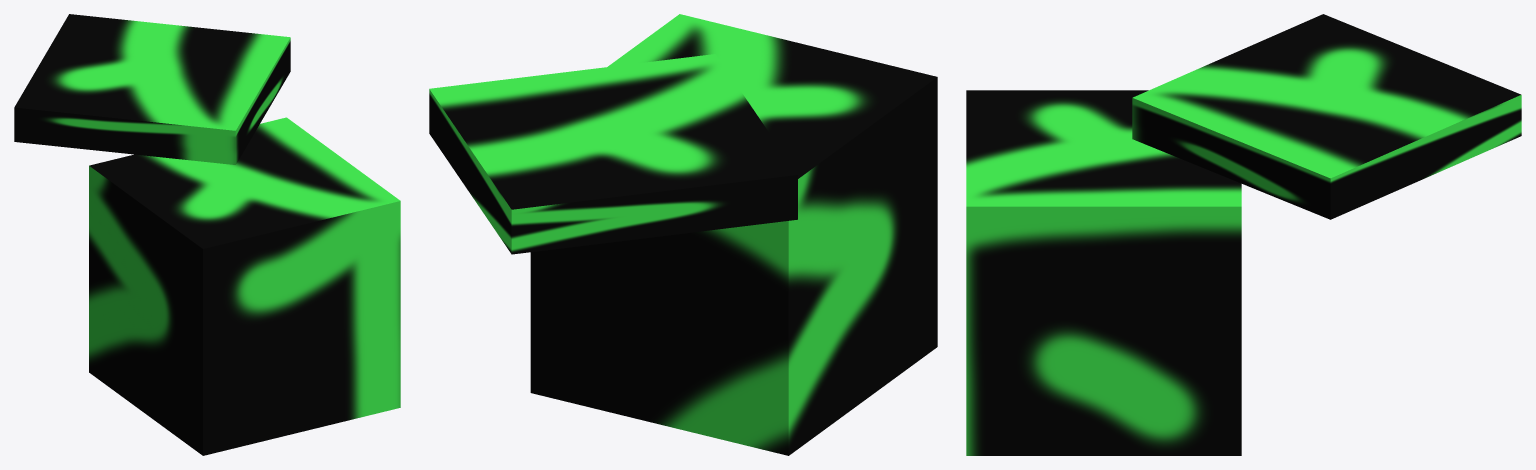
File: TwoCube.fbx
3 renders of one model, left to right at view 1: azimuth 30°, elevation 25°; view 2: azimuth 150°, elevation 25°; view 3: azimuth 270°, elevation 25°, orthographic. The views are drawn at different scales.
Parts seen in each view (by area): view 1: Cube, Cube.001; view 2: Cube, Cube.001; view 3: Cube, Cube.001.
Boxes of the visible parts, x1=… form: Cube: x1=89, y1=117, x2=400, y2=455; Cube.001: x1=14, y1=14, x2=290, y2=164; Cube: x1=530, y1=14, x2=937, y2=455; Cube.001: x1=429, y1=54, x2=797, y2=254; Cube: x1=966, y1=90, x2=1241, y2=455; Cube.001: x1=1132, y1=14, x2=1521, y2=219.
Size of the model in its own units: 283 by 242 by 403.
